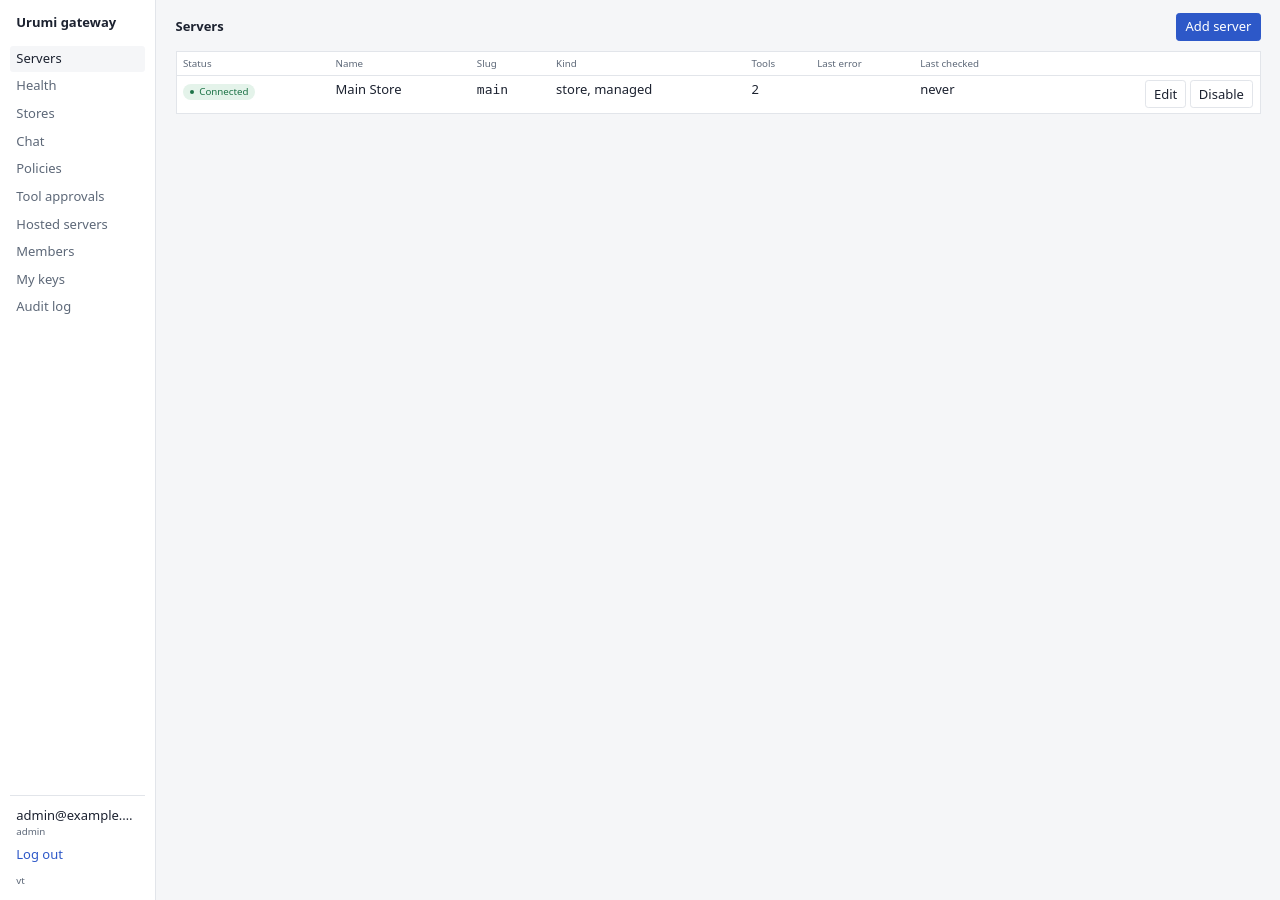
Test case: Policies page through the real routes › shows the roles column on the Servers page tool table
The image size is (1280, 900).
Click the text "Main Store": (400,94) [329,75,470,114]
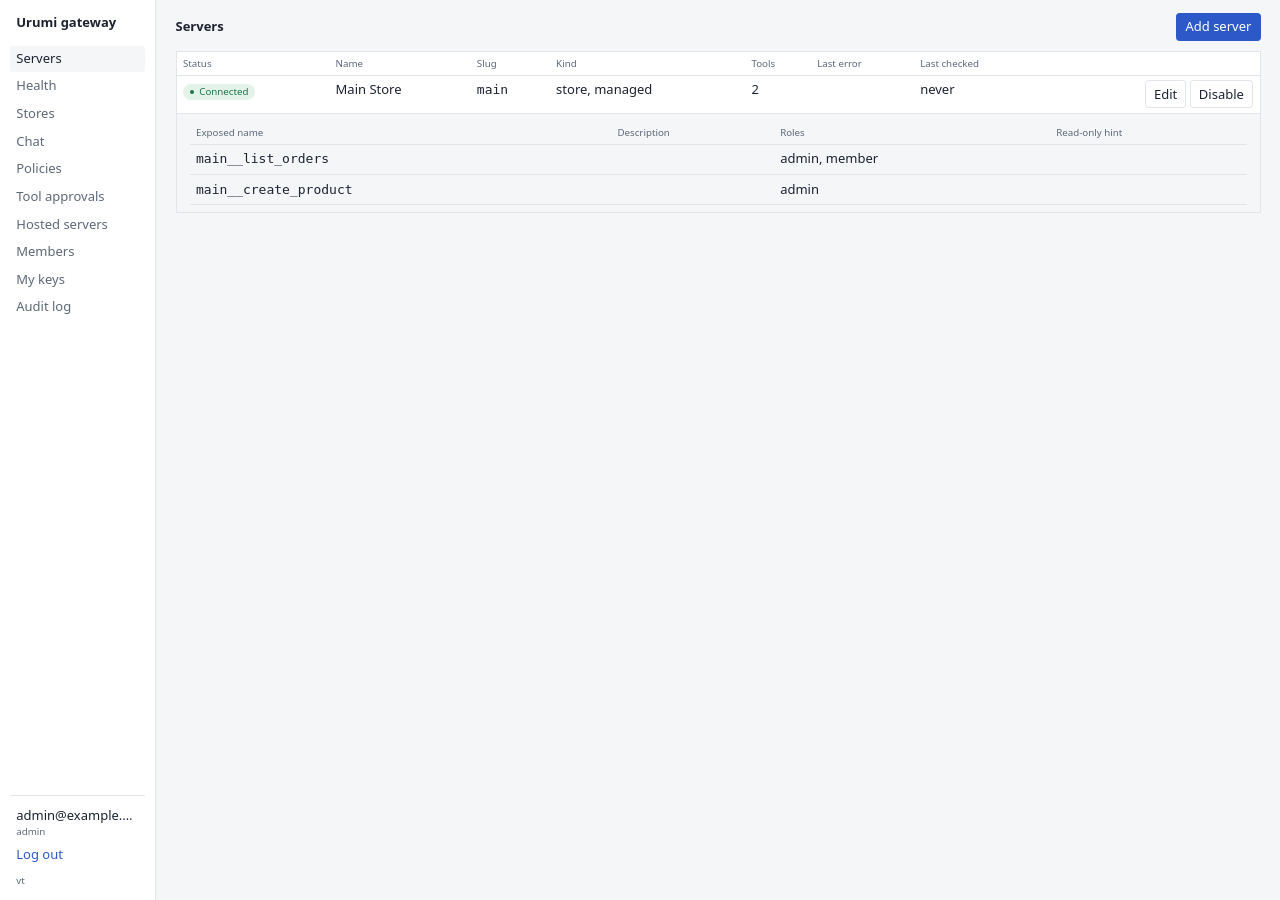
Now the text "admin" is shown, box [774,174,1050,205]
Now the text "admin, member" is shown, box [774,144,1050,174]
